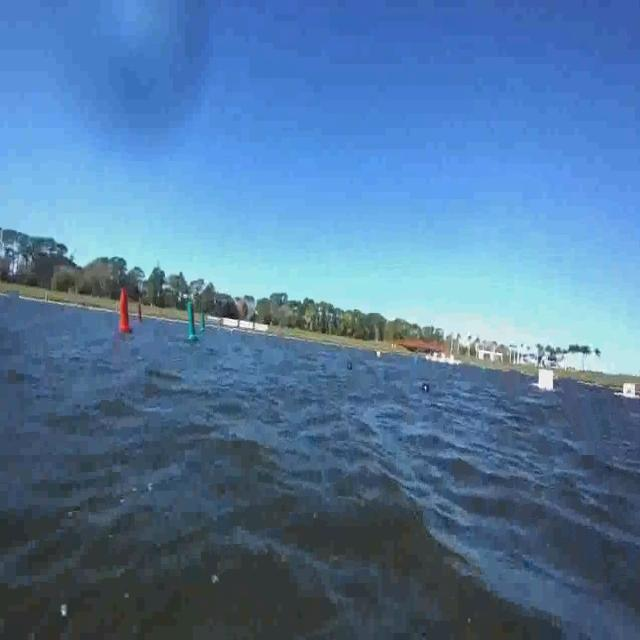black-buoy: (424, 382, 431, 394), (348, 360, 354, 369)
green-column-buoy: (185, 301, 197, 342), (201, 308, 208, 332)
red-column-buoy: (118, 287, 131, 333), (138, 303, 145, 323)
